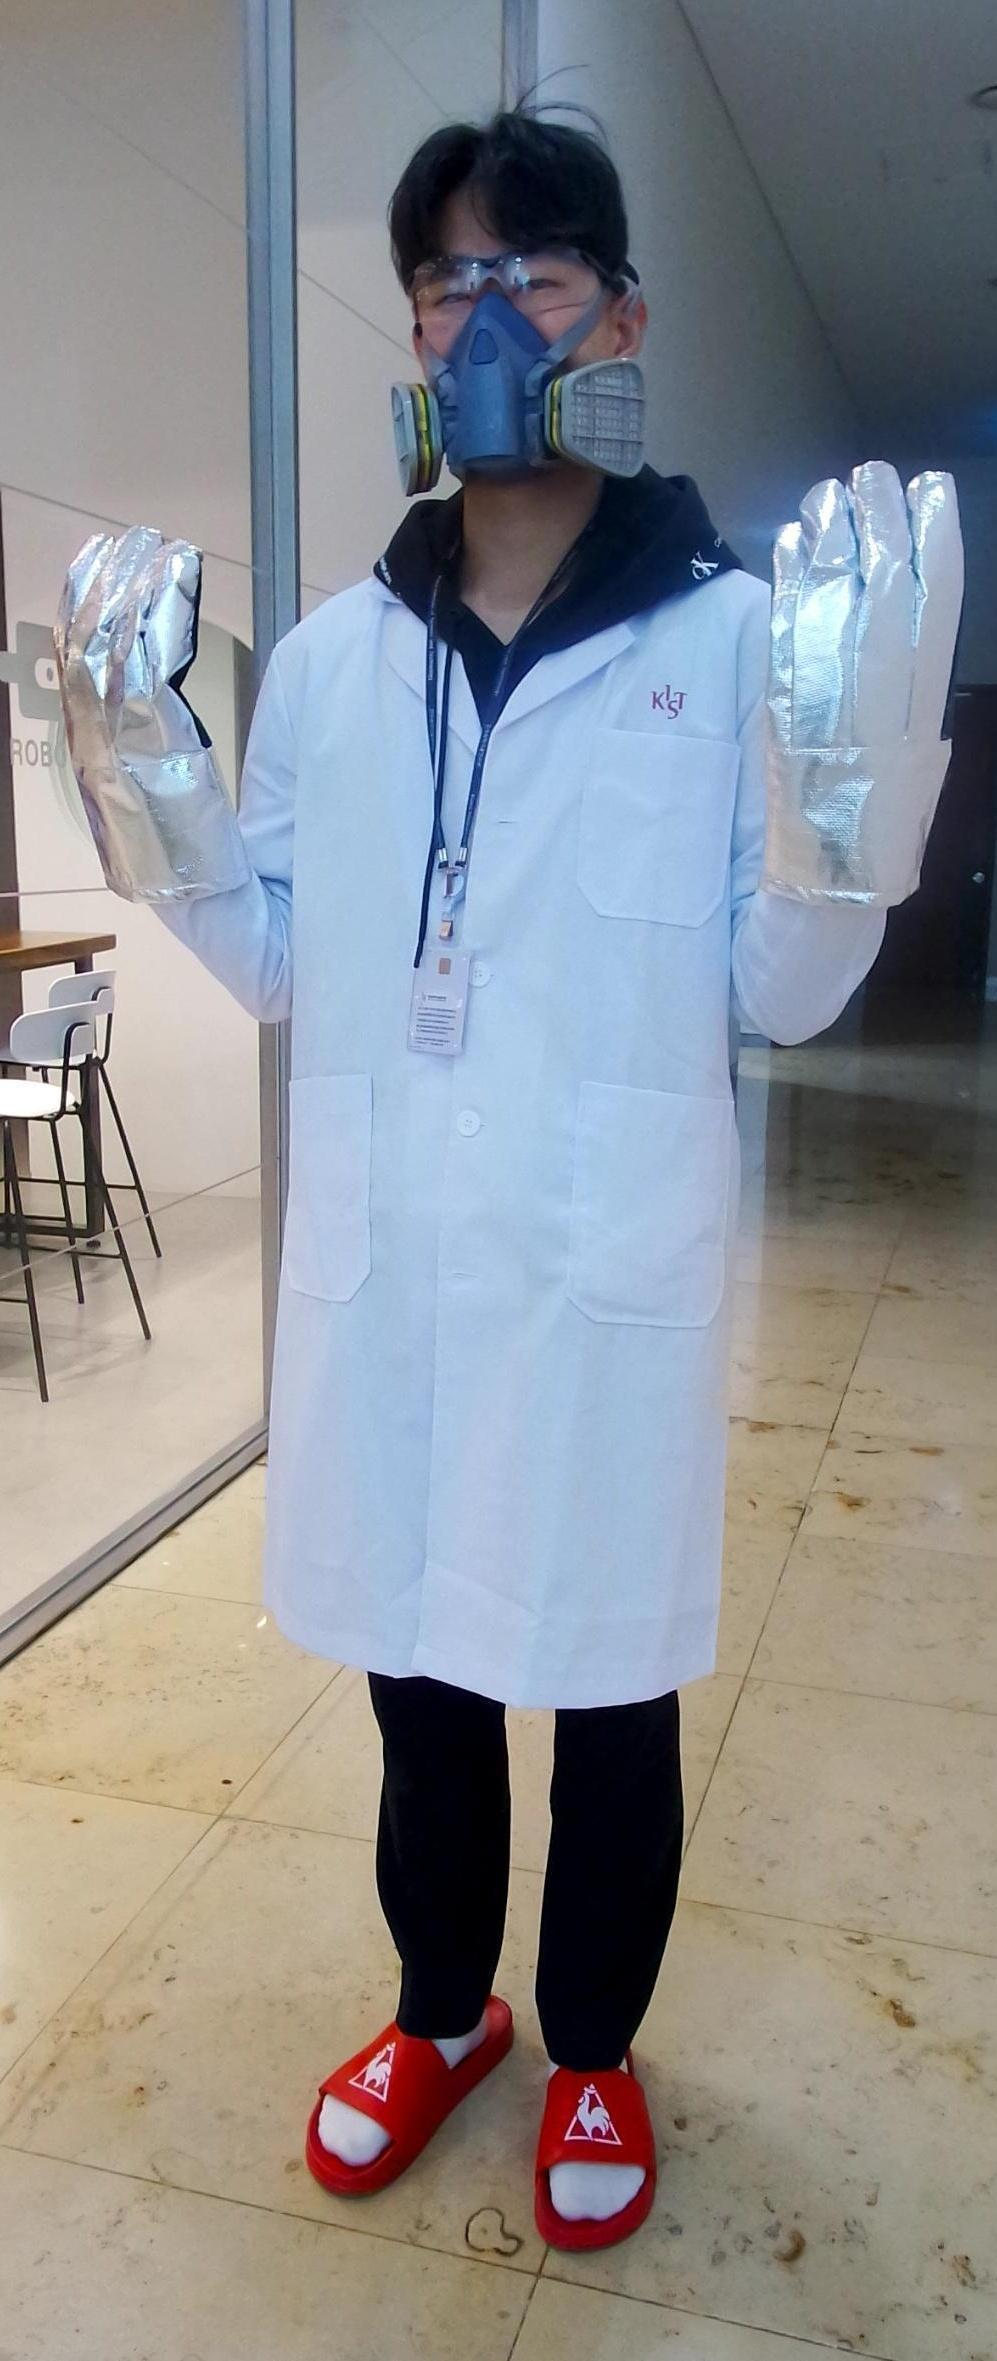lab_coat: (217, 571, 771, 1685)
